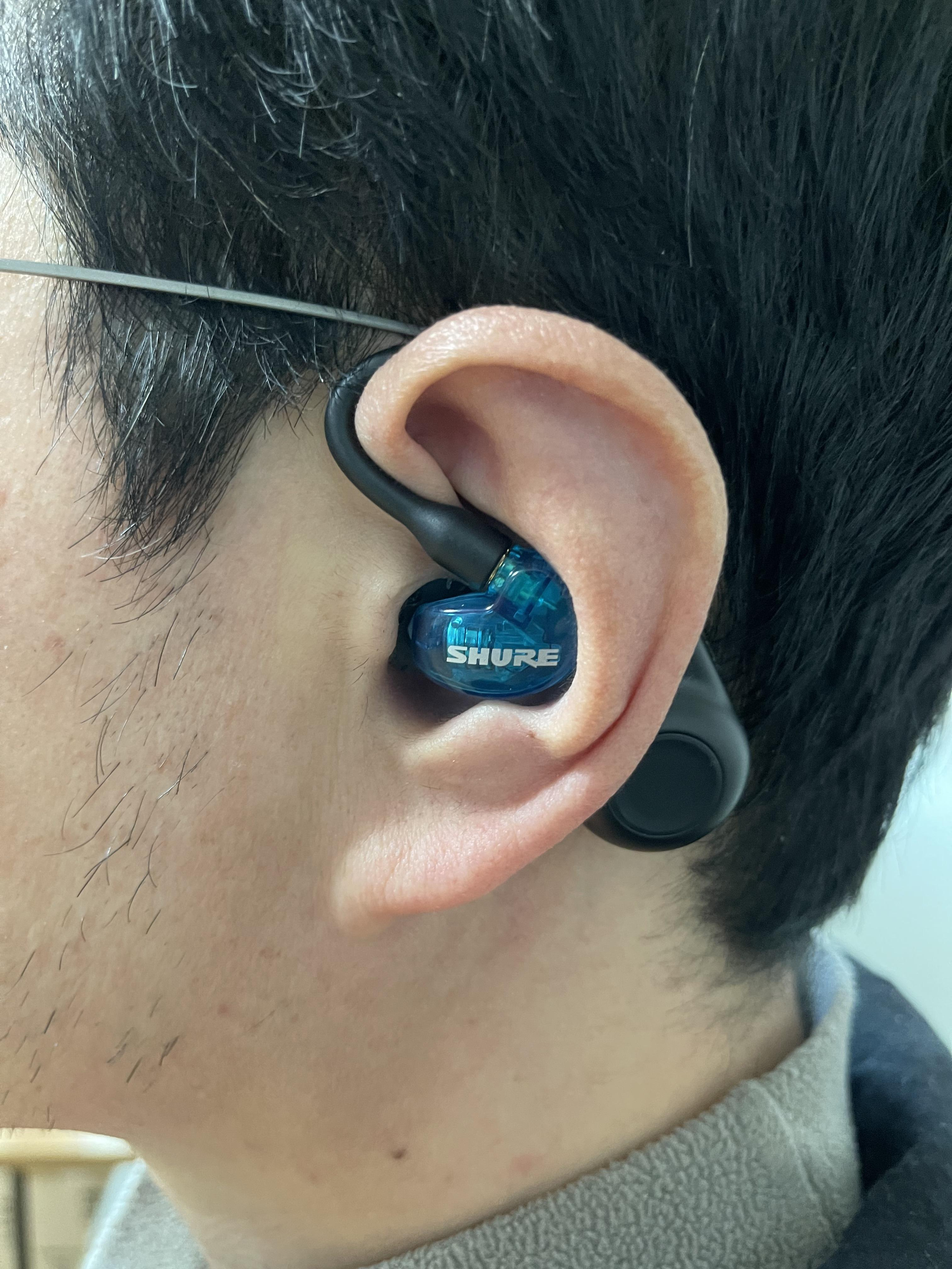earphone: (384, 518, 602, 747)
